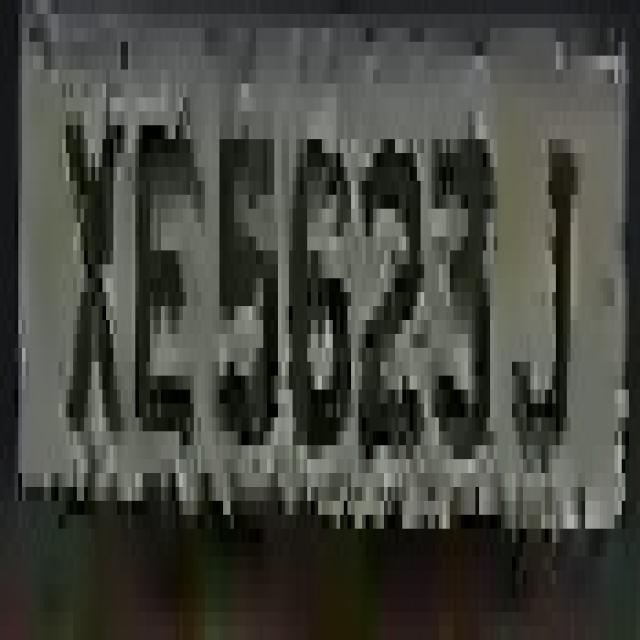2: (358, 98, 424, 459)
3: (421, 97, 494, 501)
5: (216, 97, 278, 501)
6: (282, 125, 358, 515)
E: (120, 97, 204, 501)
J: (508, 97, 585, 501)
X: (51, 83, 121, 487)
